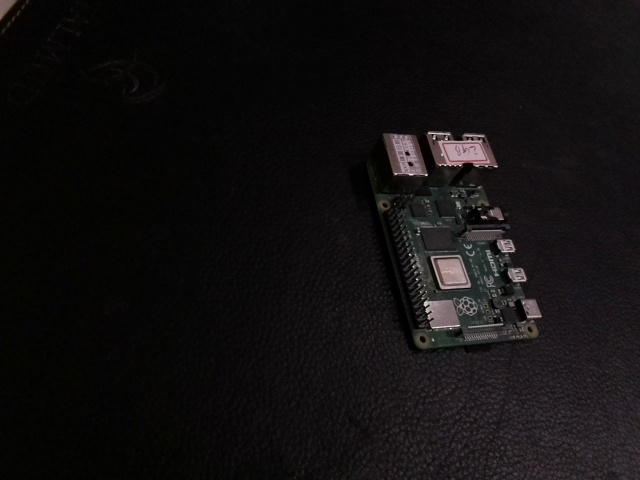pi4: (328, 115, 569, 356)
